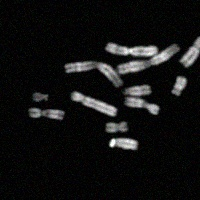chromosome: (117, 44, 180, 74), (65, 61, 122, 87), (71, 91, 117, 116), (105, 42, 158, 56), (180, 37, 200, 68), (125, 97, 159, 114), (28, 108, 63, 120), (109, 138, 137, 150), (124, 85, 151, 96), (171, 76, 186, 95), (106, 121, 128, 133), (32, 93, 47, 102)
